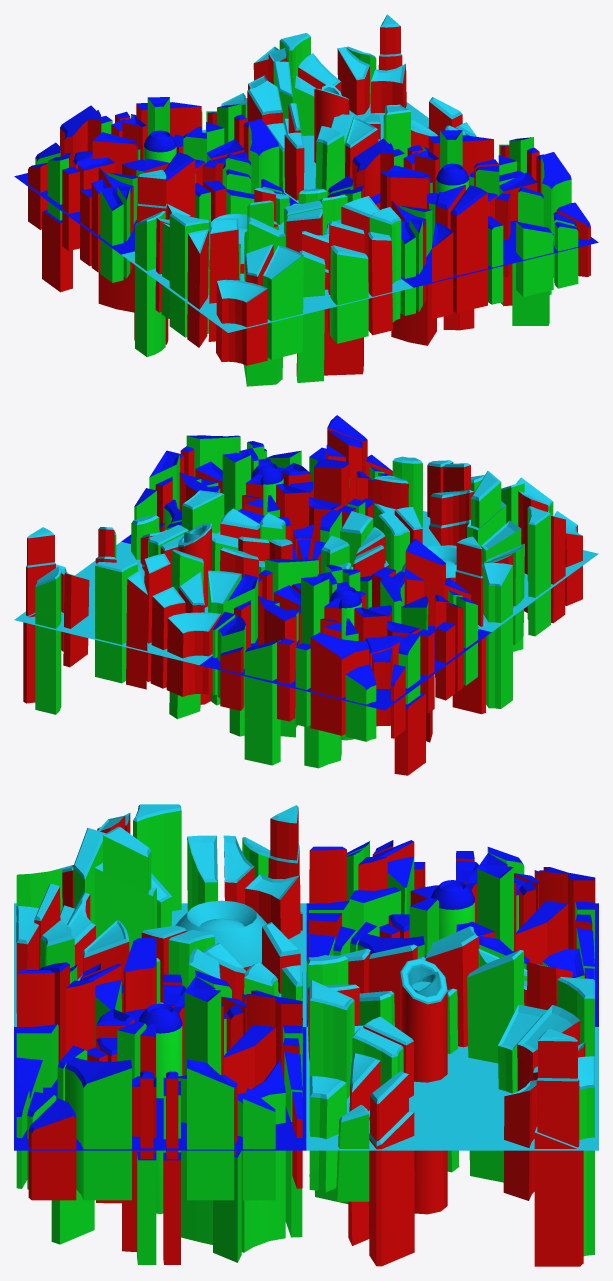
File: mesh_placa_metronia_01.FBX
3 renders of one model, top to bottom at view 1: azimuth 30°, elevation 25°; view 2: azimuth 150°, elevation 25°; view 3: azimuth 270°, elevation 25°, orthographic. The views are drawn at different scales.
Parts seen in each view (by area): view 1: Placa_metronia_01; view 2: Placa_metronia_01; view 3: Placa_metronia_01.
Boxes of the visible parts, x1,y1,x2,y2 form: Placa_metronia_01: (14,14,598,386); Placa_metronia_01: (14,415,598,775); Placa_metronia_01: (14,804,598,1266).
Size of the model in its own units: 20 by 9.52 by 20.
